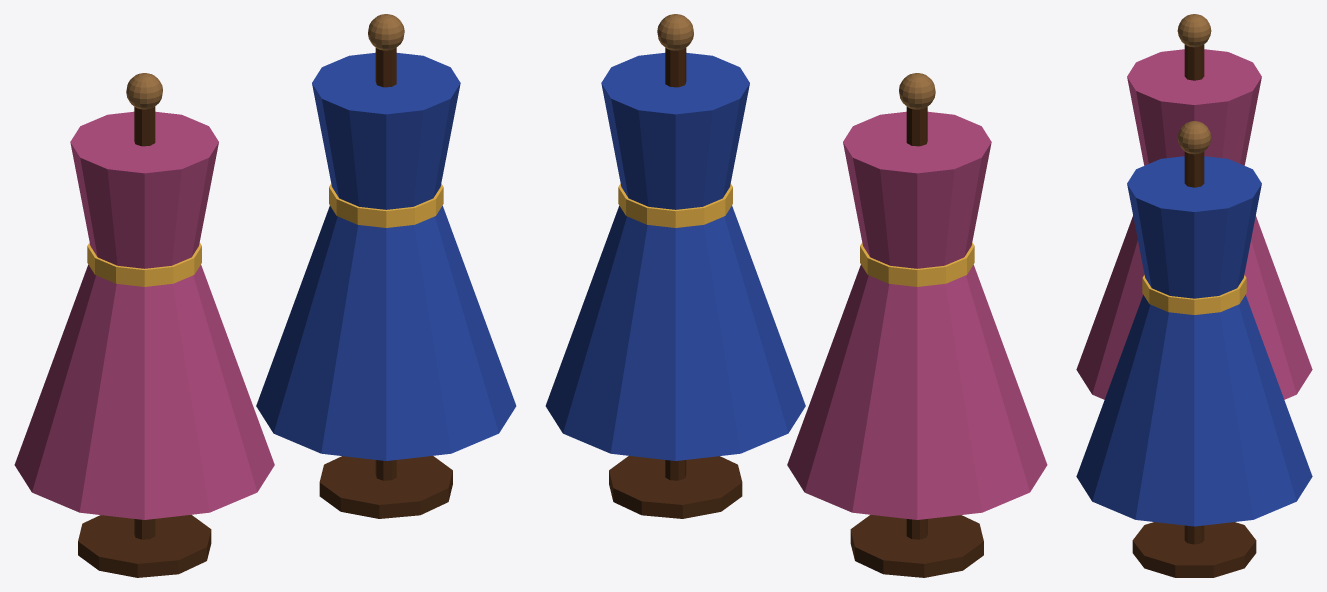
Rendered from shop_tailor_yard.gltf.
3 views of the same model, side by side, from view 1: azimuth 30°, elevation 25°; view 2: azimuth 150°, elevation 25°; view 3: azimuth 270°, elevation 25° (orthographic). The views are drawn at different scales.
Visible parts, largest first — view 1: ShopTailorYardShopBlue, ShopTailorYardShopCloth, ShopTailorYardShopWood, ShopTailorYardShopGold, ShopTailorYardShopWoodLight; view 2: ShopTailorYardShopBlue, ShopTailorYardShopCloth, ShopTailorYardShopWood, ShopTailorYardShopGold, ShopTailorYardShopWoodLight; view 3: ShopTailorYardShopBlue, ShopTailorYardShopCloth, ShopTailorYardShopWood, ShopTailorYardShopGold, ShopTailorYardShopWoodLight.
Part boxes in pixels (x1,y1,x2,y2): ShopTailorYardShopBlue: (256, 52, 516, 460); ShopTailorYardShopCloth: (14, 111, 274, 519); ShopTailorYardShopWood: (78, 48, 452, 577); ShopTailorYardShopGold: (87, 183, 443, 286); ShopTailorYardShopWoodLight: (126, 14, 404, 109); ShopTailorYardShopBlue: (545, 52, 805, 460); ShopTailorYardShopCloth: (787, 111, 1047, 519); ShopTailorYardShopWood: (609, 48, 983, 577); ShopTailorYardShopGold: (618, 183, 974, 286); ShopTailorYardShopWoodLight: (657, 14, 935, 109); ShopTailorYardShopBlue: (1076, 156, 1312, 526); ShopTailorYardShopCloth: (1076, 49, 1312, 399); ShopTailorYardShopWood: (1132, 44, 1256, 577); ShopTailorYardShopGold: (1142, 275, 1246, 314); ShopTailorYardShopWoodLight: (1177, 14, 1211, 154).
Size of what is drawn, in the model's own units: 1.74 by 1.69 by 0.84.
